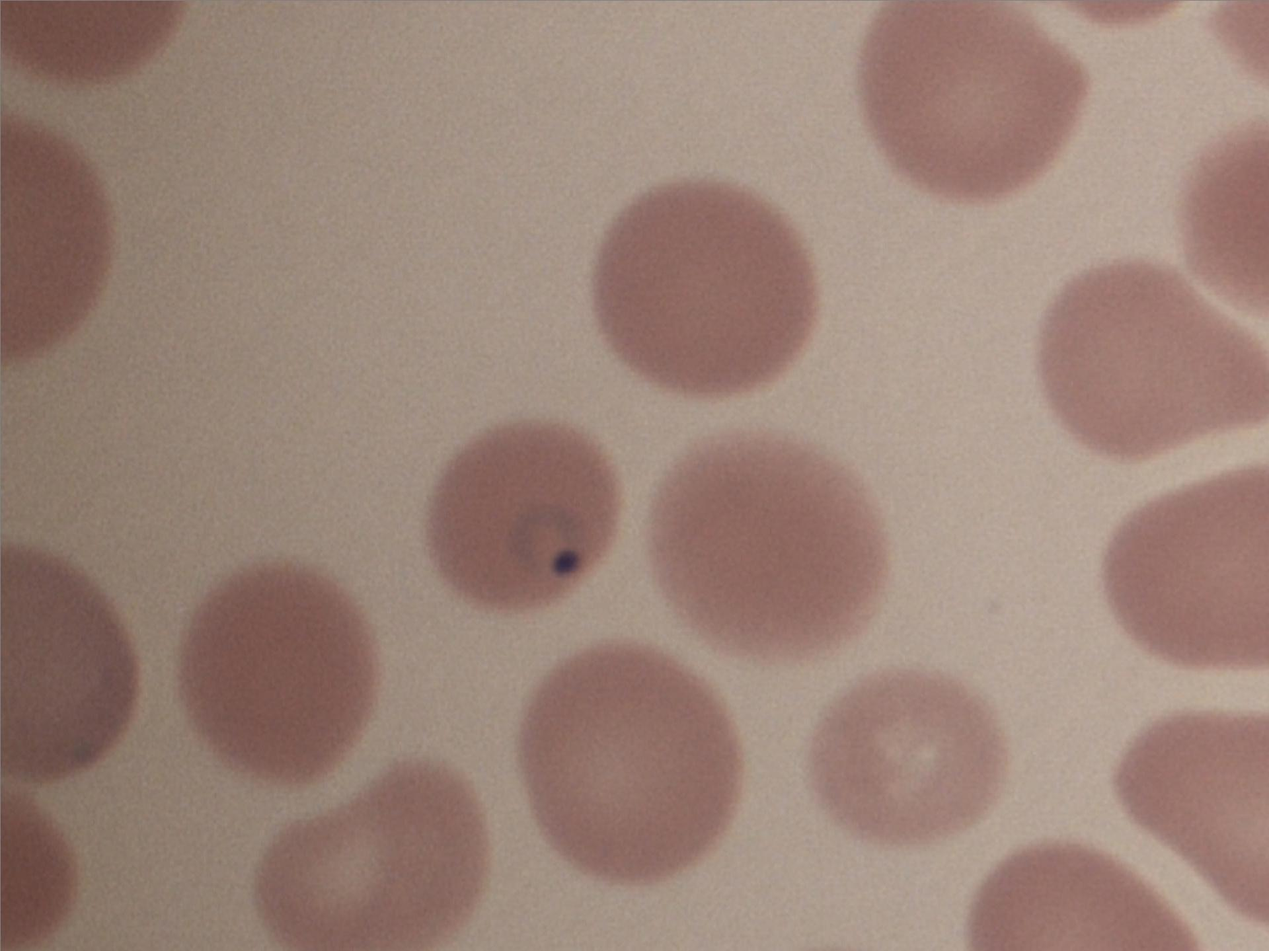Infected: (427, 419, 621, 611)
Uninfected: (652, 428, 881, 659), (533, 644, 748, 880), (591, 173, 817, 390), (1044, 261, 1269, 468), (864, 0, 1093, 202), (253, 763, 492, 951), (181, 569, 385, 778), (815, 677, 1015, 838), (1110, 483, 1269, 672)
